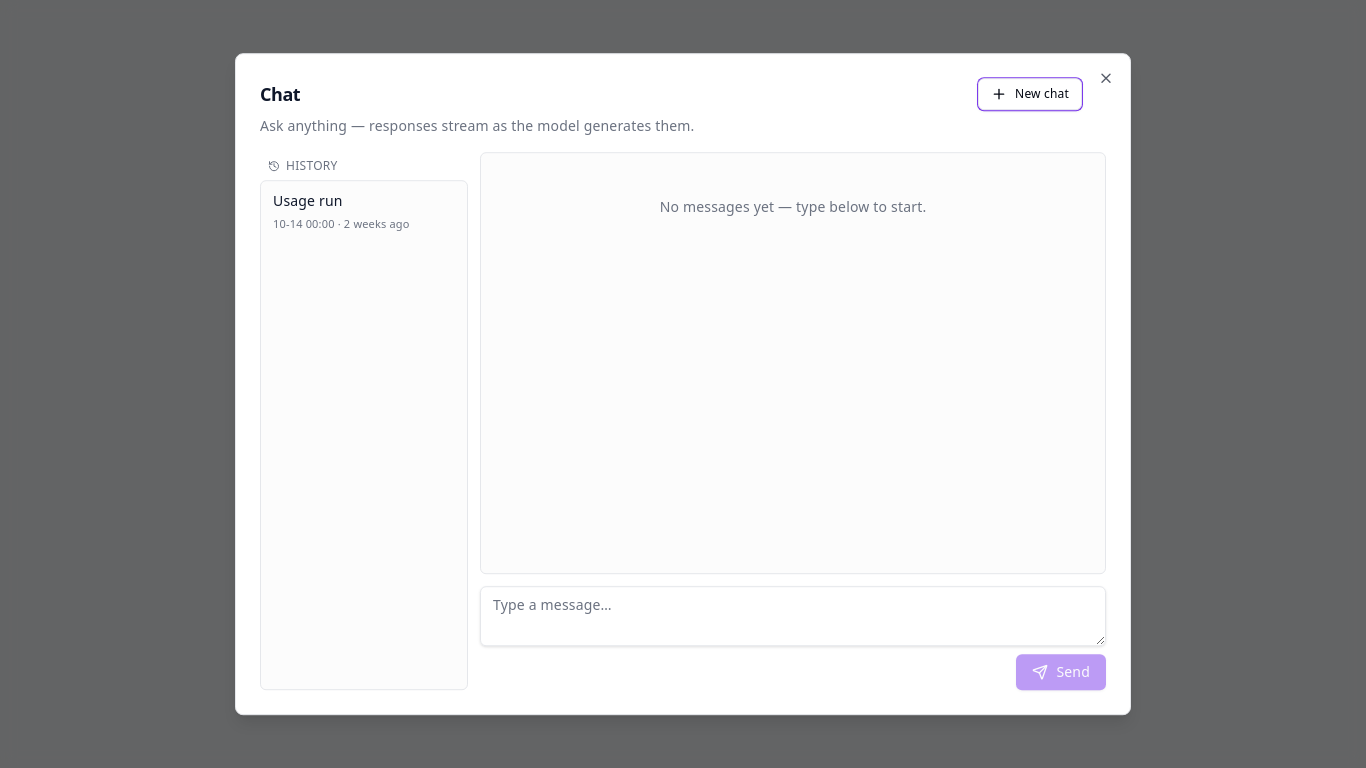
Test case: ChatPanel chat history › replays the persisted token usage split
This screenshot has width=1366, height=768.
Click the button with test id "chat-session-row".
click(364, 214)  # box [265,185,463,243]
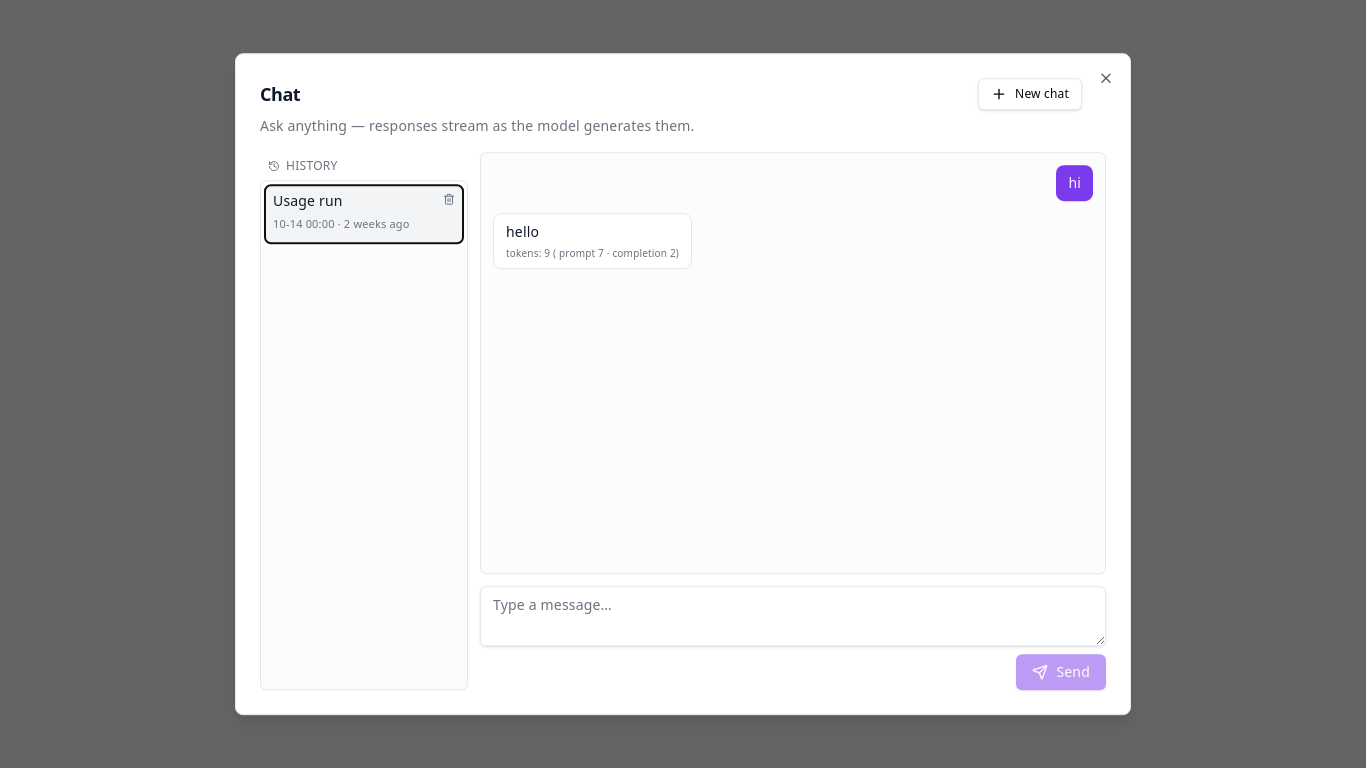
Check: the element with test id "chat-message-assistant" shows "tokens: 9 ( prompt 7 · completion 2)", box [506,246,679,260]
